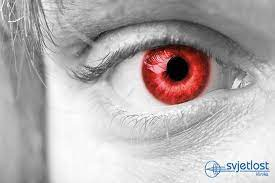e.other: (141, 44, 206, 109)
